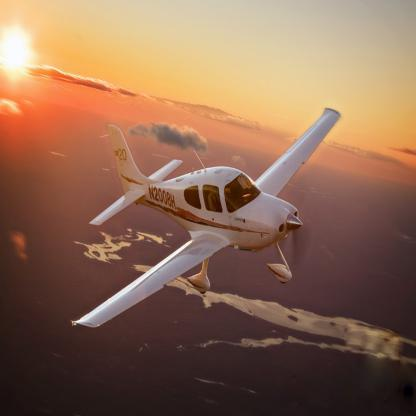CIV_Plane: (68, 105, 342, 330)
